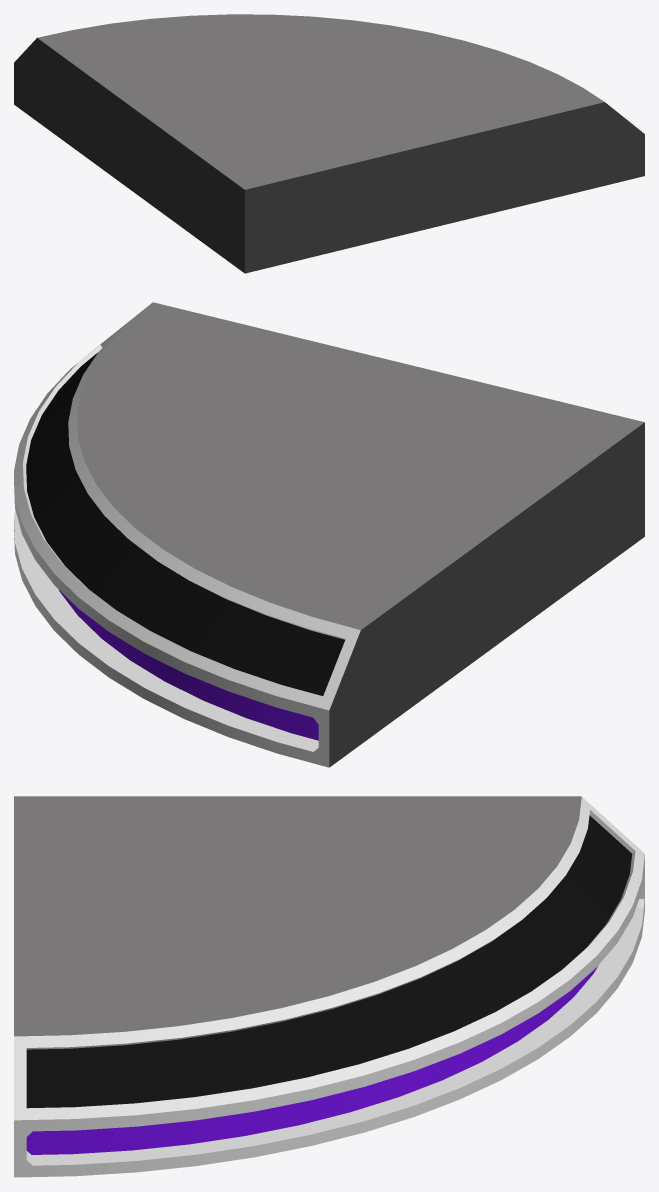
File: PlatformBorder00b_5Corner.fbx
3 renders of one model, top to bottom at view 1: azimuth 30°, elevation 25°; view 2: azimuth 150°, elevation 25°; view 3: azimuth 270°, elevation 25°, orthographic. The views are drawn at different scales.
Parts seen in each view (by area): view 1: PlatformBorder00b_5Corner; view 2: PlatformBorder00b_5Corner; view 3: PlatformBorder00b_5Corner.
Boxes of the visible parts, <box> form: PlatformBorder00b_5Corner: <box>14,14,644,273</box>; PlatformBorder00b_5Corner: <box>14,302,644,767</box>; PlatformBorder00b_5Corner: <box>14,796,644,1177</box>.
Size of the model in its own units: 500 by 100 by 500.
